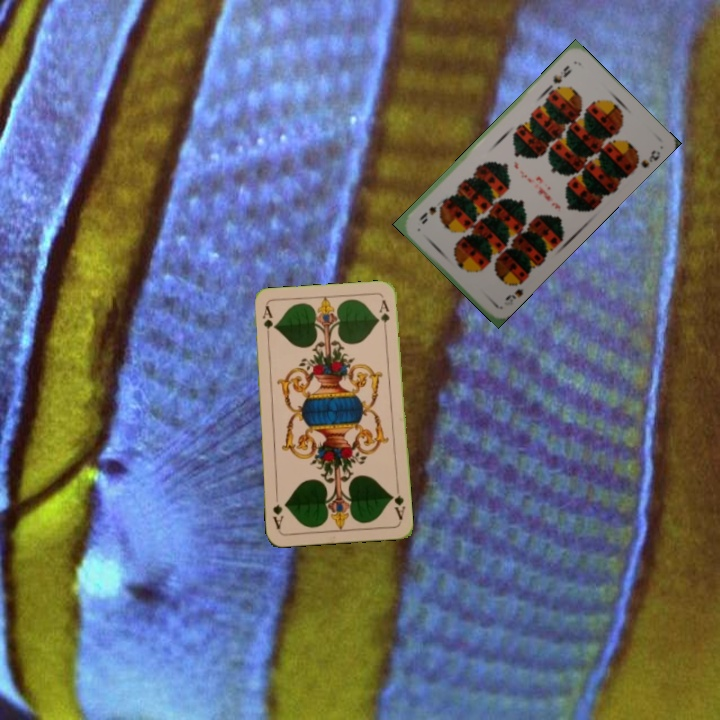GA: (387, 483, 408, 522), (259, 302, 274, 343)
S9: (545, 61, 574, 93), (501, 275, 528, 303)
